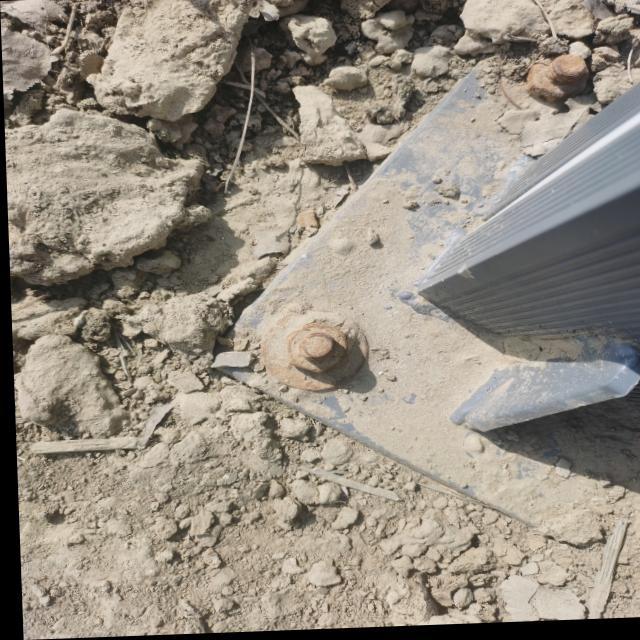Rusty bolt: (281, 324, 350, 378)
